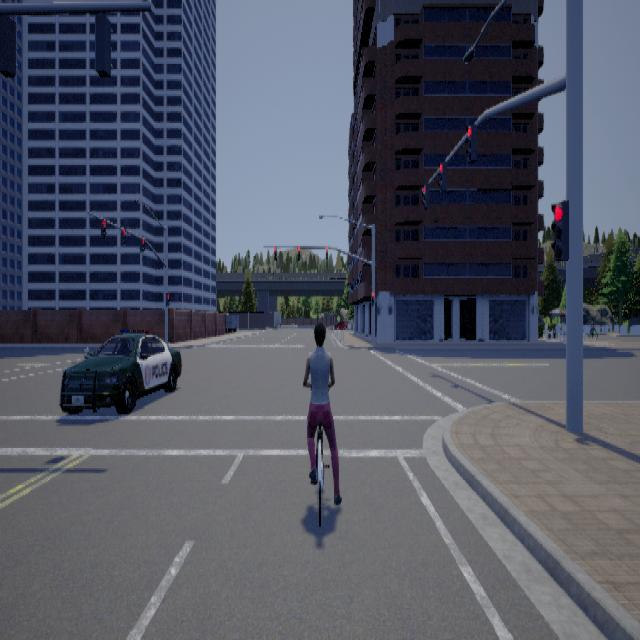bike: (299, 322, 342, 532)
red_light: (550, 199, 568, 259), (465, 123, 476, 162), (437, 160, 446, 190), (421, 182, 428, 209), (100, 218, 106, 238), (120, 228, 125, 245), (139, 236, 144, 251), (166, 292, 170, 305), (274, 246, 277, 260), (371, 292, 374, 305), (326, 246, 328, 260), (298, 246, 300, 260)
vehicle: (58, 328, 181, 412)
